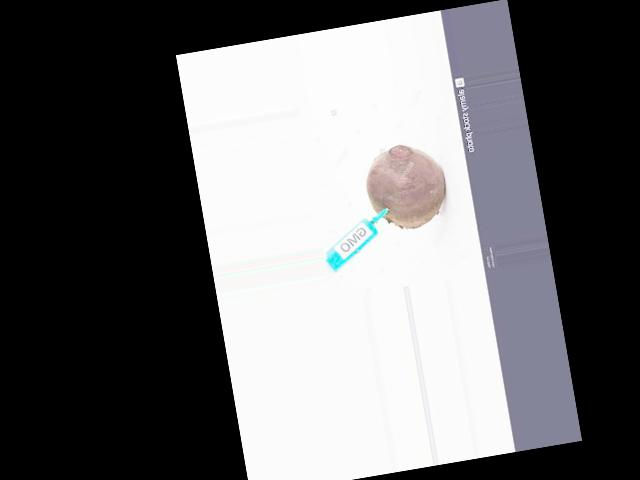beet: (360, 138, 452, 234)
